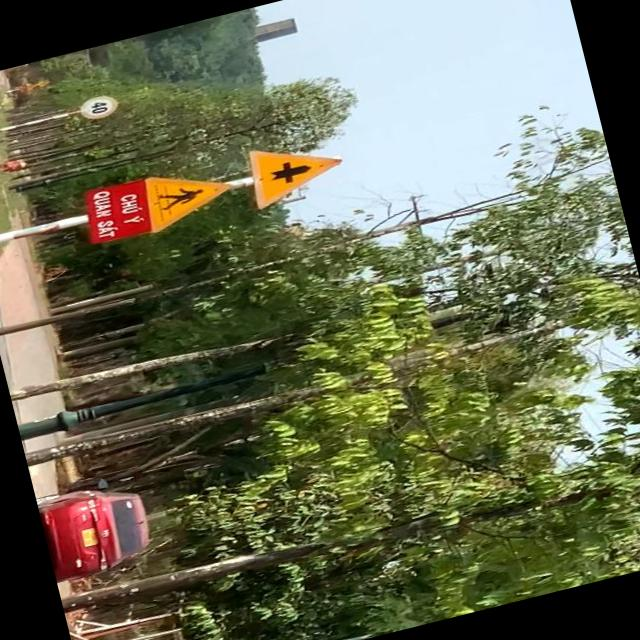W-207a: (240, 129, 350, 212)
W-224: (141, 155, 244, 233)
